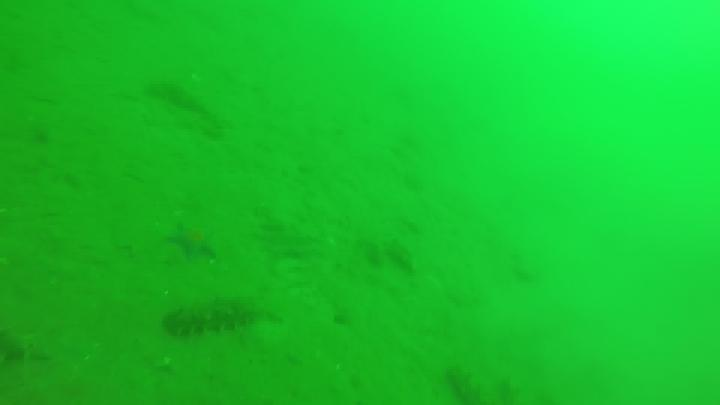holothurian: (163, 295, 279, 338)
starfish: (166, 221, 220, 262)
